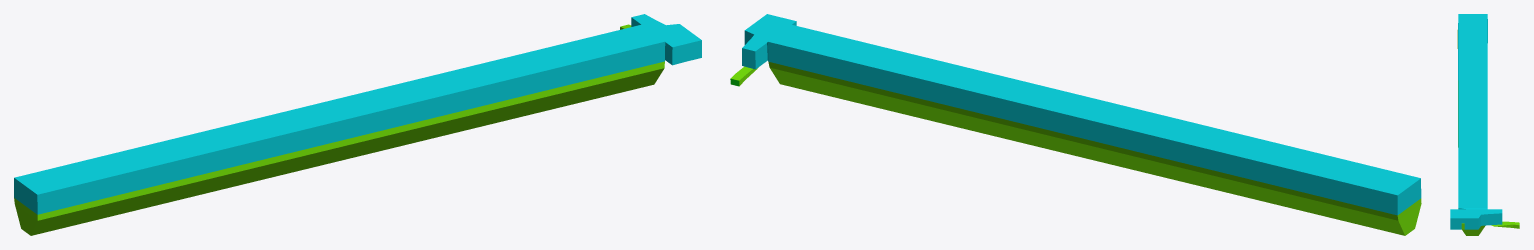
File: ravine_BSP 000.fbx
The picture shows the model from 3 angles, left to right: view 1: azimuth 30°, elevation 25°; view 2: azimuth 150°, elevation 25°; view 3: azimuth 270°, elevation 25°; orthographic projection. The views are drawn at different scales.
Visible parts, largest first — view 1: Cube; view 2: Cube; view 3: Cube.
Boxes of the visible parts, bbox=[...] form: Cube: bbox=[14, 14, 701, 235]; Cube: bbox=[730, 14, 1421, 235]; Cube: bbox=[1450, 14, 1519, 235].
Size of the model in its own units: 93514 by 6306 by 13463.
